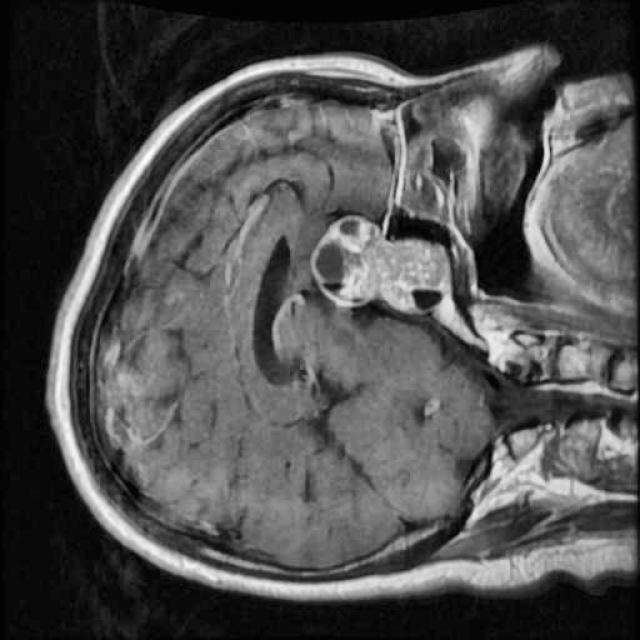Tumor: (302, 198, 468, 330)
